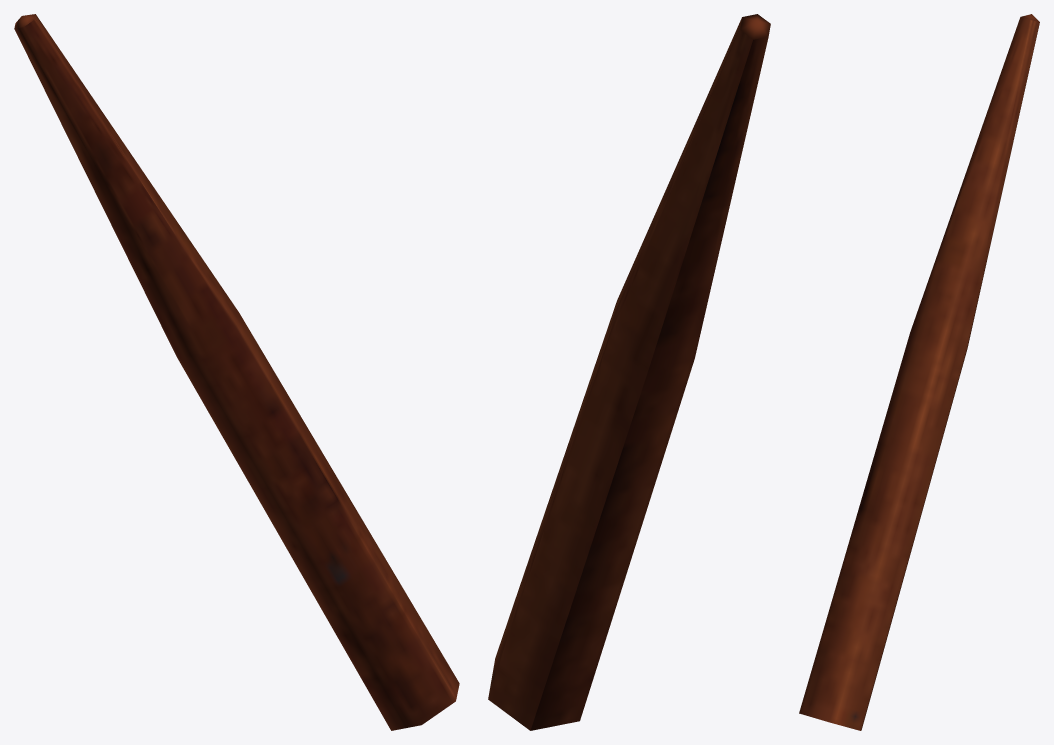
File: a_sch_office01_pen01.gltf
3 renders of one model, left to right at view 1: azimuth 30°, elevation 25°; view 2: azimuth 150°, elevation 25°; view 3: azimuth 270°, elevation 25°, orthographic. The views are drawn at different scales.
Parts seen in each view (by area): view 1: a_sch_office01_pen01_02_mesh_shape:a_sch_office01_pen01_lmg0; view 2: a_sch_office01_pen01_02_mesh_shape:a_sch_office01_pen01_lmg0; view 3: a_sch_office01_pen01_02_mesh_shape:a_sch_office01_pen01_lmg0.
Part boxes in pixels (<box>): a_sch_office01_pen01_02_mesh_shape:a_sch_office01_pen01_lmg0: <box>14,14,459,730</box>; a_sch_office01_pen01_02_mesh_shape:a_sch_office01_pen01_lmg0: <box>488,14,770,730</box>; a_sch_office01_pen01_02_mesh_shape:a_sch_office01_pen01_lmg0: <box>799,14,1039,730</box>.
Bounding box in the file's own units: 0.0835 × 0.1678 × 0.0611.
Materials: 1 (1 with a texture image).
